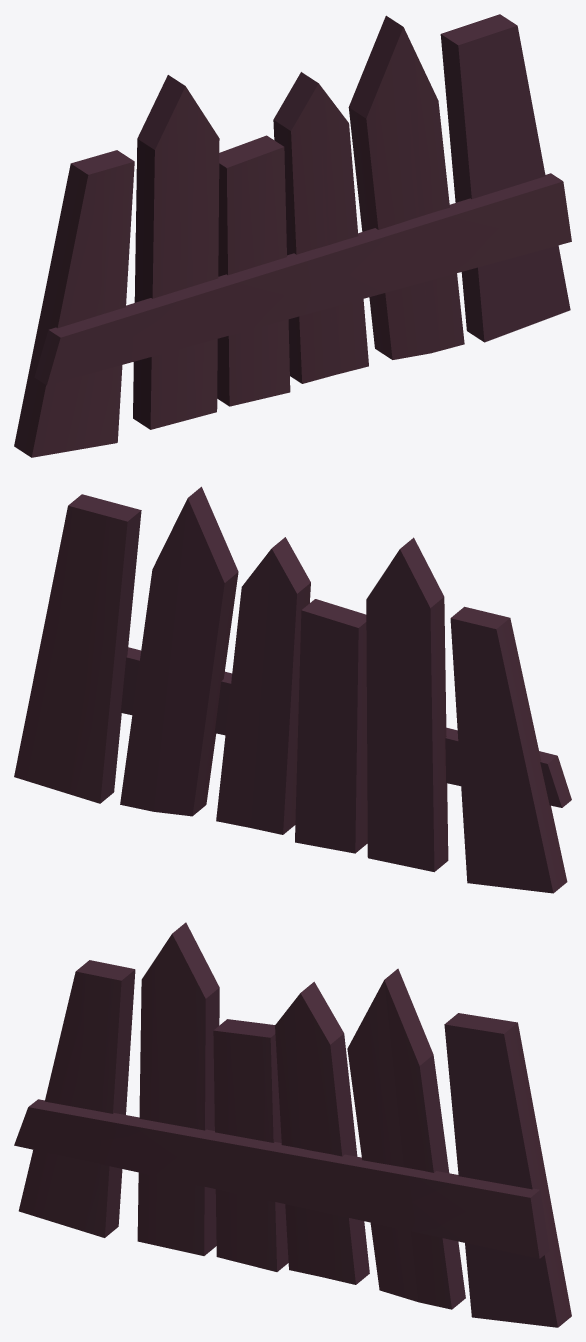
The model's file is fence2.fbx.
3 renders of one model, top to bottom at view 1: azimuth 30°, elevation 25°; view 2: azimuth 150°, elevation 25°; view 3: azimuth 330°, elevation 25°, orthographic. The views are drawn at different scales.
Parts seen in each view (by area): view 1: Cube.027; view 2: Cube.027; view 3: Cube.027.
Part boxes in pixels (x1,y1,x2,y2): Cube.027: [14, 14, 571, 457]; Cube.027: [14, 486, 571, 893]; Cube.027: [14, 922, 571, 1327].
Bounding box in the file's own units: 255 × 149 × 33.88.
